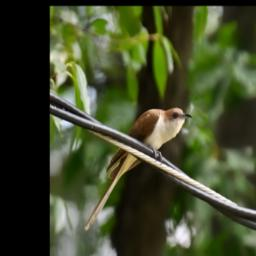Cuckoo: (83, 106, 193, 234)
